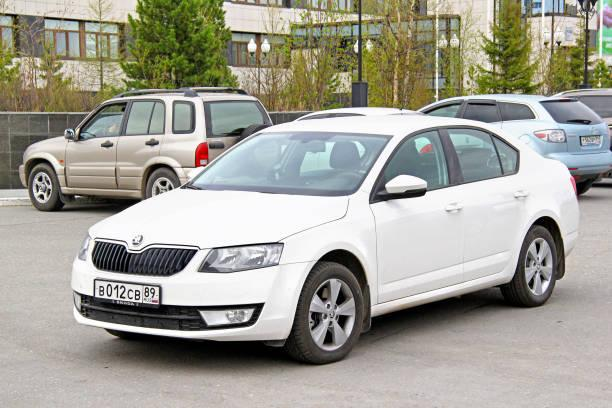skoda: (126, 229, 150, 251)
